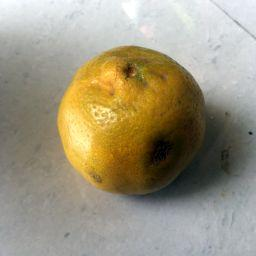Unripe: (57, 45, 205, 191)
